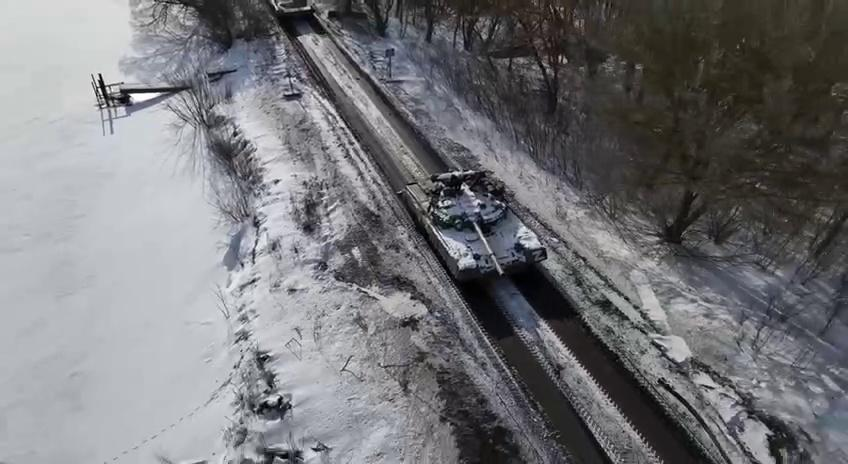tank: (400, 168, 548, 286)
